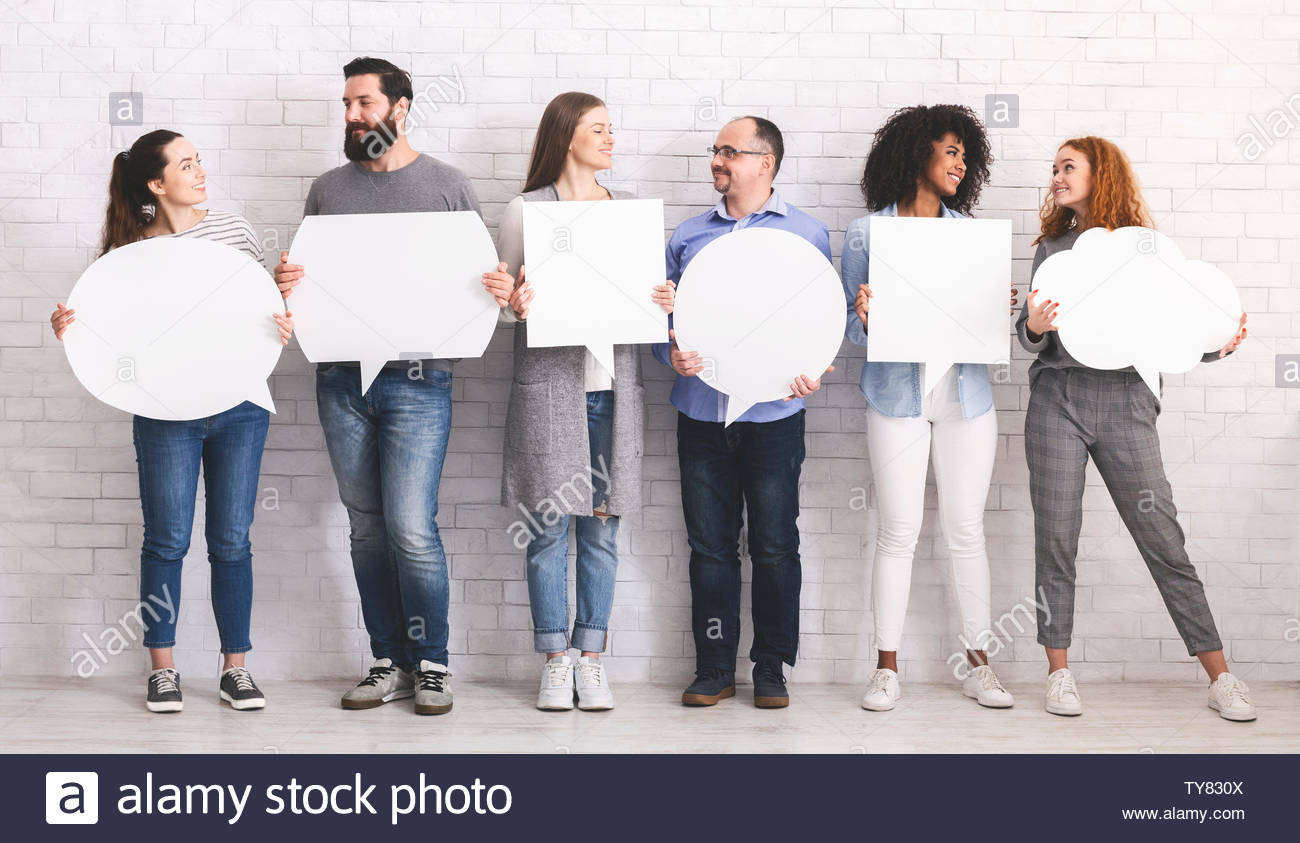person: (1029, 133, 1232, 673), (289, 24, 498, 254), (46, 108, 271, 308), (834, 87, 1025, 297), (499, 72, 670, 285), (670, 102, 826, 288)
